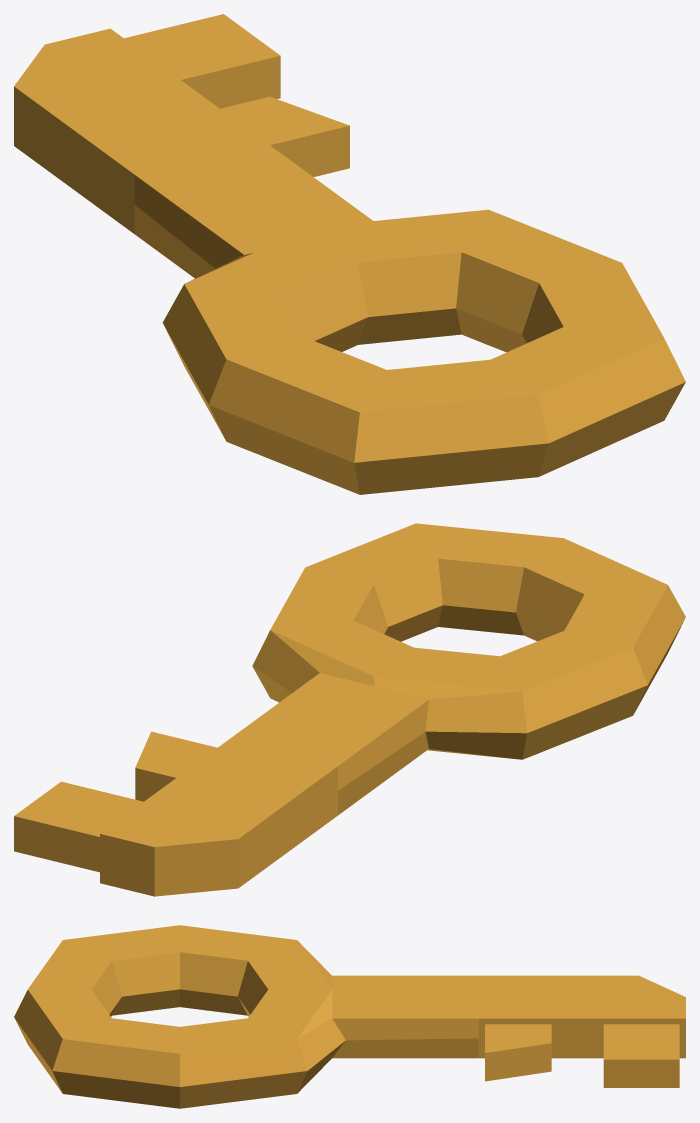
The model's file is KeyLowPoly01.fbx.
3 renders of one model, top to bottom at view 1: azimuth 30°, elevation 25°; view 2: azimuth 150°, elevation 25°; view 3: azimuth 270°, elevation 25°, orthographic. The views are drawn at different scales.
Visible parts, largest first — view 1: Key; view 2: Key; view 3: Key.
Boxes of the visible parts, <box> form: Key: <box>14,14,685,494</box>; Key: <box>14,523,685,896</box>; Key: <box>14,925,685,1108</box>.
Size of the model in its own units: 283 by 51.74 by 574.
